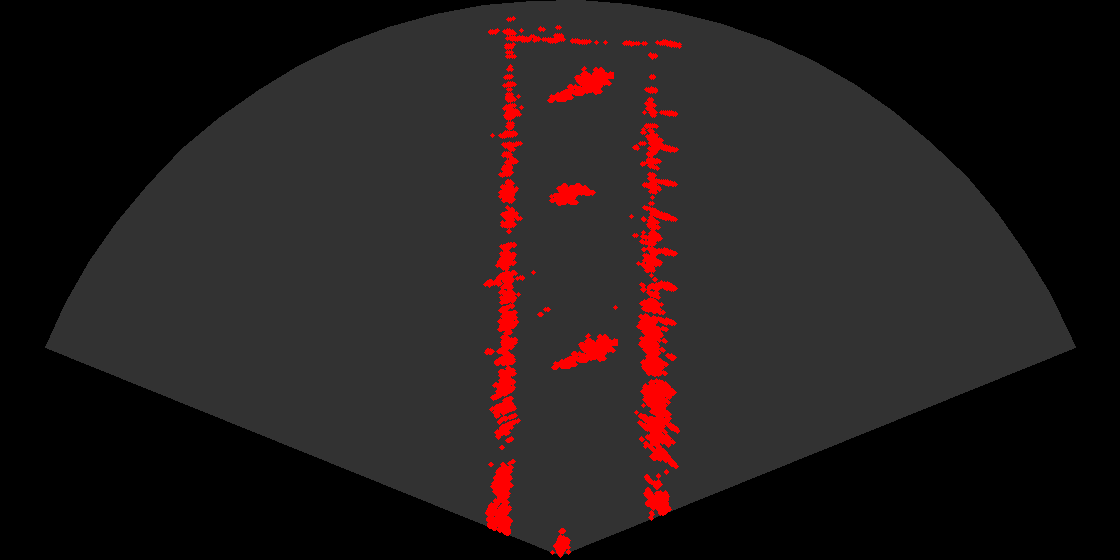AUV: (543, 181, 599, 213)
frogman: (546, 60, 614, 107), (550, 327, 618, 374)
